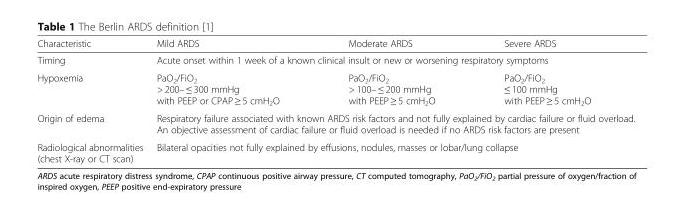table: (36, 37, 634, 163)
table column: (469, 37, 634, 163), (149, 37, 313, 163), (313, 37, 469, 163), (36, 37, 149, 163)
table column header: (36, 37, 634, 51)
table row: (36, 68, 634, 109), (36, 109, 634, 137), (36, 137, 634, 163), (36, 51, 634, 68), (36, 37, 634, 51)
table spanning cell: (149, 109, 634, 137), (149, 137, 634, 163), (149, 51, 634, 68)
